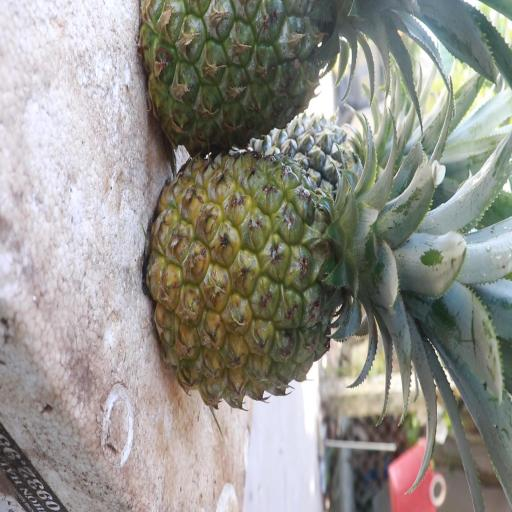------------------------------: (134, 0, 371, 149)
Pineapple - v8 v1: (154, 157, 413, 400)
